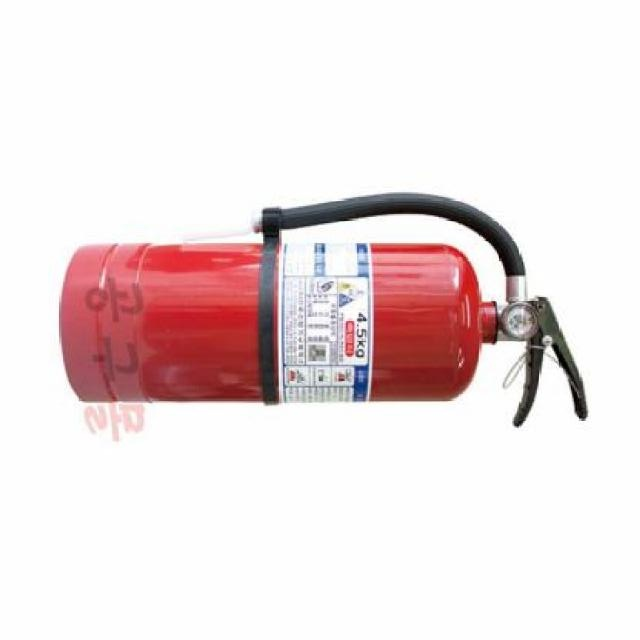fire extinguisher: (60, 192, 588, 430)
